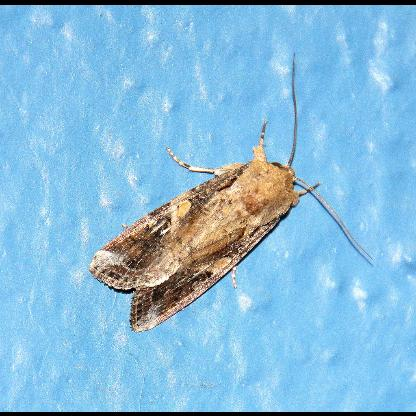Fall Armyworm Moth: (87, 49, 377, 336)
